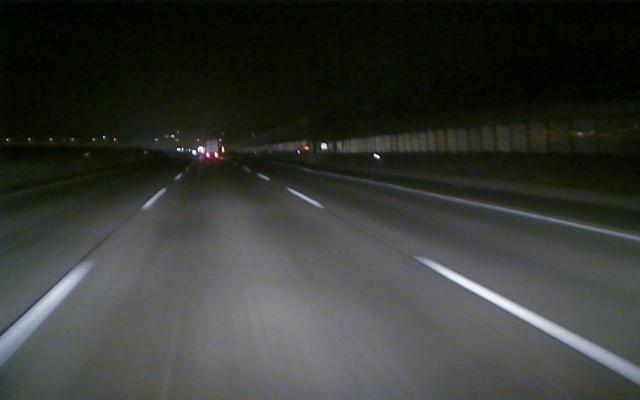lane: (285, 186, 638, 384), (4, 181, 171, 359), (353, 177, 640, 243)
